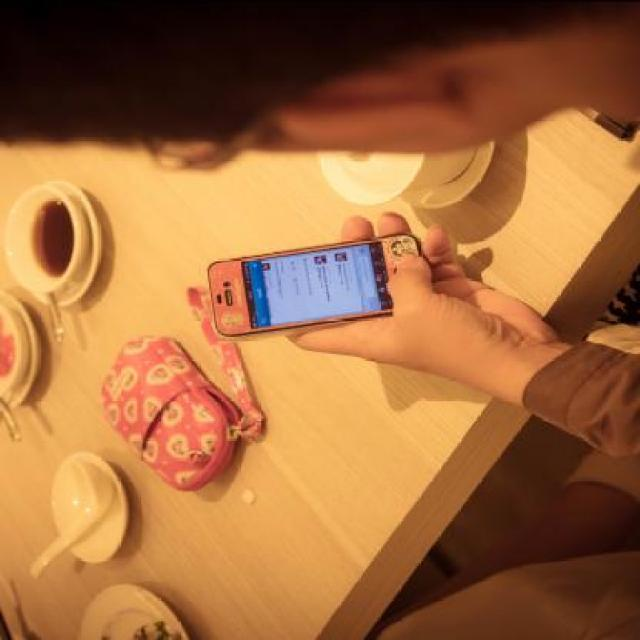phone: (204, 229, 420, 346)
